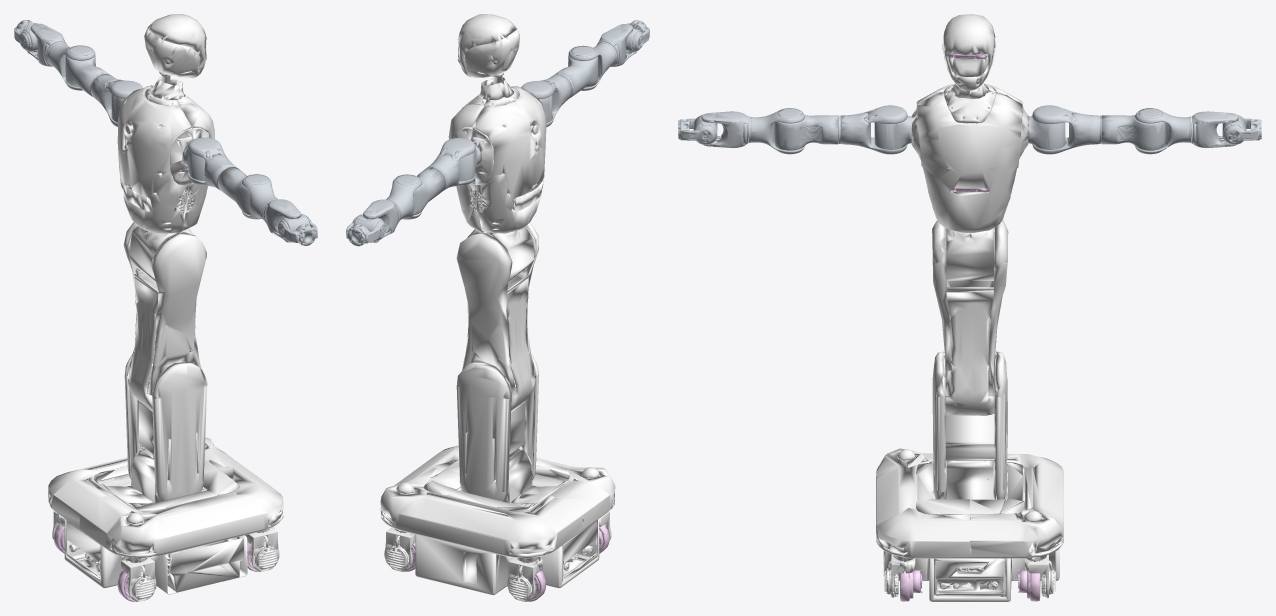
Rendered from wheel_robot.glb.
3 renders of one model, left to right at view 1: azimuth 30°, elevation 25°; view 2: azimuth 150°, elevation 25°; view 3: azimuth 270°, elevation 25°, orthographic. The views are drawn at different scales.
Parts seen in each view (by area): view 1: Chassis_link_visual, Chest_link_visual, Thigh_link_visual, Calf_link_visual, Head_link_visual, Waist_link_visual, AR5-5_08R-W4C1C9-ZY2_link2_visual, AR5-5_08L-W4C1C9-ZY2_link2_visual, AR5-5_08R-W4C1C9-ZY2_link4_visual, AR5-5_08L-W4C1C9-ZY2_link4_visual, AR5-5_08R-W4C1C9-ZY2_link3_visual, AR5-5_08L-W4C1C9-ZY2_link3_visual (+5 smaller); view 2: Chassis_link_visual, Chest_link_visual, Thigh_link_visual, Calf_link_visual, Head_link_visual, Waist_link_visual, AR5-5_08L-W4C1C9-ZY2_link2_visual, AR5-5_08R-W4C1C9-ZY2_link2_visual, AR5-5_08L-W4C1C9-ZY2_link4_visual, AR5-5_08R-W4C1C9-ZY2_link4_visual, AR5-5_08L-W4C1C9-ZY2_link3_visual, AR5-5_08R-W4C1C9-ZY2_link3_visual (+5 smaller); view 3: Chassis_link_visual, Chest_link_visual, Thigh_link_visual, Calf_link_visual, Head_link_visual, Waist_link_visual, AR5-5_08L-W4C1C9-ZY2_link2_visual, AR5-5_08R-W4C1C9-ZY2_link2_visual, AR5-5_08R-W4C1C9-ZY2_link3_visual, AR5-5_08L-W4C1C9-ZY2_link3_visual, AR5-5_08L-W4C1C9-ZY2_link4_visual, AR5-5_08R-W4C1C9-ZY2_link4_visual (+4 smaller).
Boxes of the visible parts, left/top/right/bottom form: Chassis_link_visual: left=48, top=437, right=283, bottom=601; Chest_link_visual: left=117, top=76, right=214, bottom=233; Thigh_link_visual: left=123, top=222, right=206, bottom=410; Calf_link_visual: left=124, top=354, right=207, bottom=501; Head_link_visual: left=144, top=14, right=206, bottom=78; Waist_link_visual: left=129, top=190, right=193, bottom=281; AR5-5_08R-W4C1C9-ZY2_link2_visual: left=188, top=137, right=236, bottom=190; AR5-5_08L-W4C1C9-ZY2_link2_visual: left=89, top=73, right=142, bottom=126; AR5-5_08R-W4C1C9-ZY2_link4_visual: left=242, top=174, right=277, bottom=219; AR5-5_08L-W4C1C9-ZY2_link4_visual: left=46, top=41, right=95, bottom=90; AR5-5_08R-W4C1C9-ZY2_link3_visual: left=218, top=167, right=250, bottom=215; AR5-5_08L-W4C1C9-ZY2_link3_visual: left=65, top=55, right=108, bottom=96; Chassis_link_visual: left=380, top=445, right=615, bottom=601; Chest_link_visual: left=448, top=77, right=546, bottom=233; Thigh_link_visual: left=456, top=222, right=538, bottom=410; Calf_link_visual: left=456, top=355, right=538, bottom=501; Head_link_visual: left=457, top=14, right=519, bottom=77; Waist_link_visual: left=467, top=190, right=534, bottom=280; AR5-5_08L-W4C1C9-ZY2_link2_visual: left=426, top=138, right=475, bottom=190; AR5-5_08R-W4C1C9-ZY2_link2_visual: left=521, top=73, right=574, bottom=127; AR5-5_08L-W4C1C9-ZY2_link4_visual: left=386, top=174, right=421, bottom=220; AR5-5_08R-W4C1C9-ZY2_link4_visual: left=568, top=42, right=617, bottom=90; AR5-5_08L-W4C1C9-ZY2_link3_visual: left=413, top=167, right=445, bottom=215; AR5-5_08R-W4C1C9-ZY2_link3_visual: left=555, top=55, right=598, bottom=97; Chassis_link_visual: left=876, top=448, right=1063, bottom=601; Chest_link_visual: left=911, top=83, right=1028, bottom=232; Thigh_link_visual: left=932, top=220, right=1008, bottom=416; Calf_link_visual: left=932, top=351, right=1007, bottom=499; Head_link_visual: left=942, top=14, right=995, bottom=90; Waist_link_visual: left=945, top=192, right=994, bottom=280; AR5-5_08L-W4C1C9-ZY2_link2_visual: left=1032, top=105, right=1101, bottom=154; AR5-5_08R-W4C1C9-ZY2_link2_visual: left=838, top=105, right=907, bottom=154; AR5-5_08R-W4C1C9-ZY2_link3_visual: left=774, top=115, right=838, bottom=150; AR5-5_08L-W4C1C9-ZY2_link3_visual: left=1101, top=115, right=1165, bottom=150; AR5-5_08L-W4C1C9-ZY2_link4_visual: left=1135, top=108, right=1191, bottom=154; AR5-5_08R-W4C1C9-ZY2_link4_visual: left=748, top=108, right=804, bottom=154.
Bounding box in the file's own units: 0.6712 × 2.02 × 1.92.
